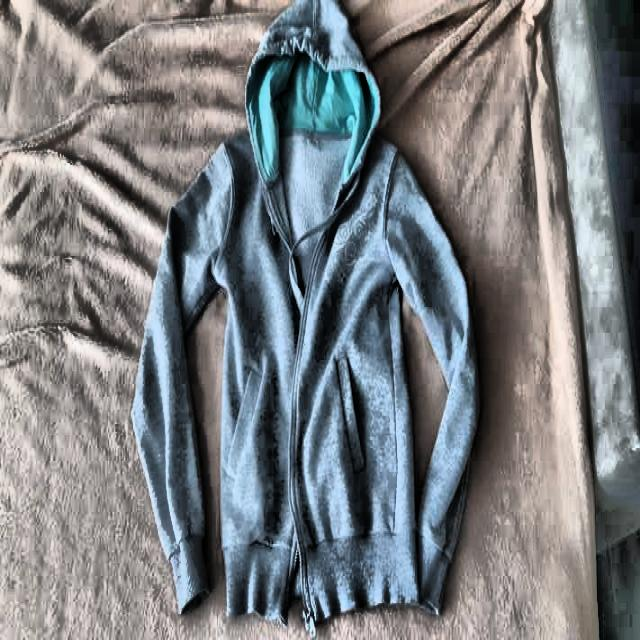clothes: (132, 0, 480, 625)
